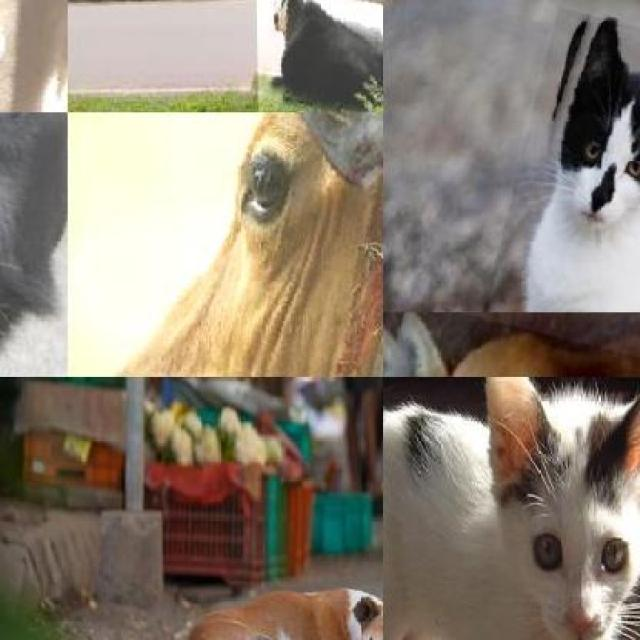cat: (383, 377, 640, 640), (431, 8, 640, 312)
cow: (68, 112, 383, 377), (254, 0, 383, 112)
dog: (152, 577, 383, 640)
injured: (326, 112, 383, 377)
